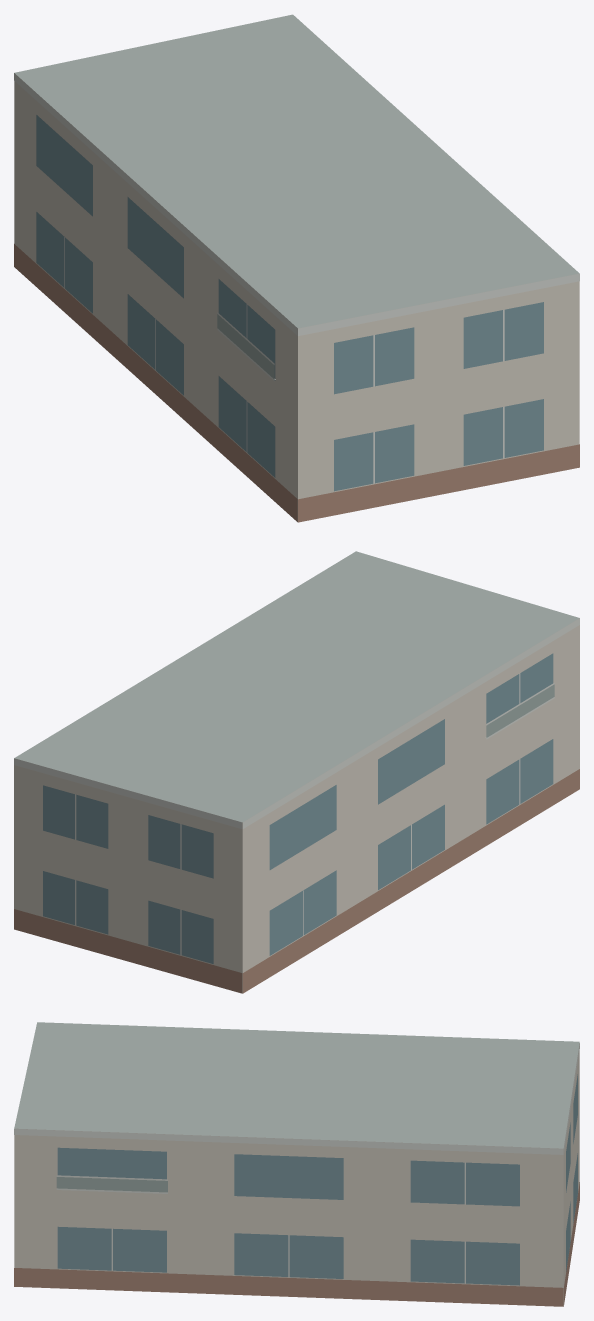
File: survey-upis-32877735.glb
3 renders of one model, top to bottom at view 1: azimuth 30°, elevation 25°; view 2: azimuth 150°, elevation 25°; view 3: azimuth 270°, elevation 25°, orthographic. The views are drawn at different scales.
Visible parts, largest first — view 1: survey-upis-32877735.tmp; view 2: survey-upis-32877735.tmp; view 3: survey-upis-32877735.tmp.
Boxes of the visible parts, box(x1,y1,x2,y2) form: survey-upis-32877735.tmp: box(14, 14, 579, 522); survey-upis-32877735.tmp: box(14, 551, 579, 993); survey-upis-32877735.tmp: box(14, 1022, 579, 1306).
Bounding box in the file's own units: 10.48 × 6.1 × 19.79.
